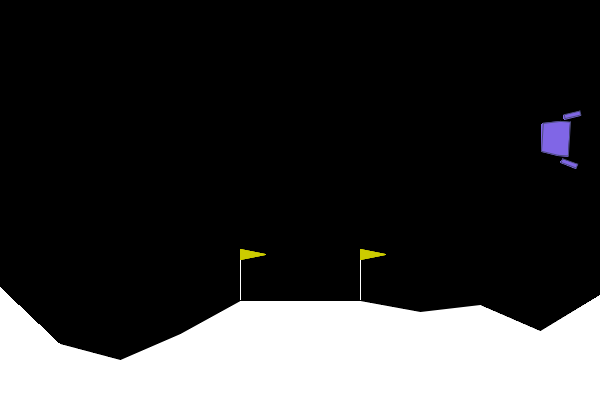lander: (538, 108, 582, 170)
